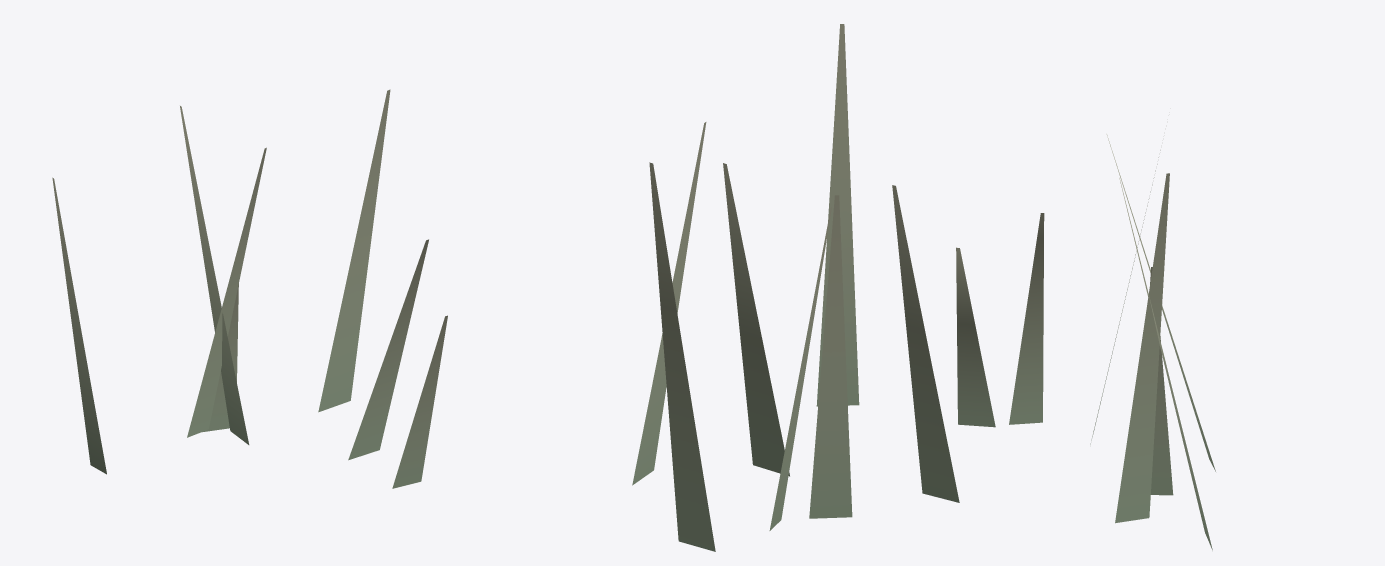
File: grass-2-authored.glb
The picture shows the model from 3 angles, left to right: view 1: azimuth 30°, elevation 25°; view 2: azimuth 150°, elevation 25°; view 3: azimuth 270°, elevation 25°; orthographic projection. The views are drawn at different scales.
Visible parts, largest first — view 1: Grass_2; view 2: Grass_2; view 3: Grass_2.
Boxes of the visible parts, x1,y1,x2,y2 form: Grass_2: (52,89,447,488); Grass_2: (632,24,859,551); Grass_2: (892,134,1215,550).
Bounding box in the file's own units: 0.7917 × 0.829 × 0.857.
